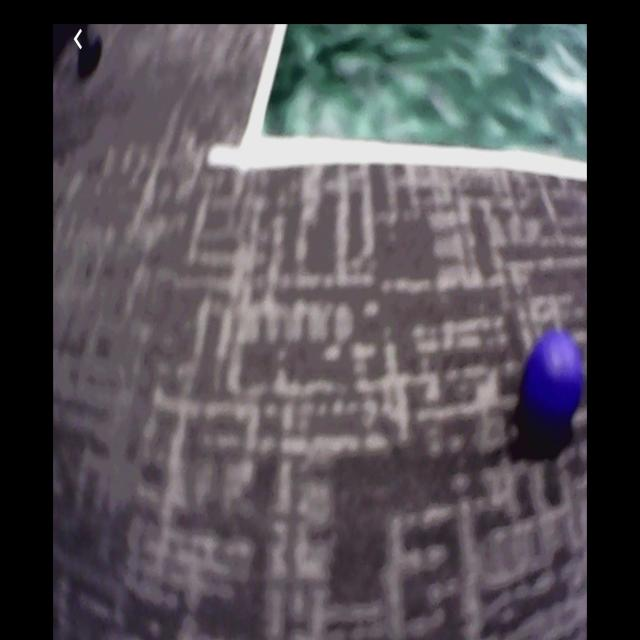ball: (518, 332, 587, 431)
